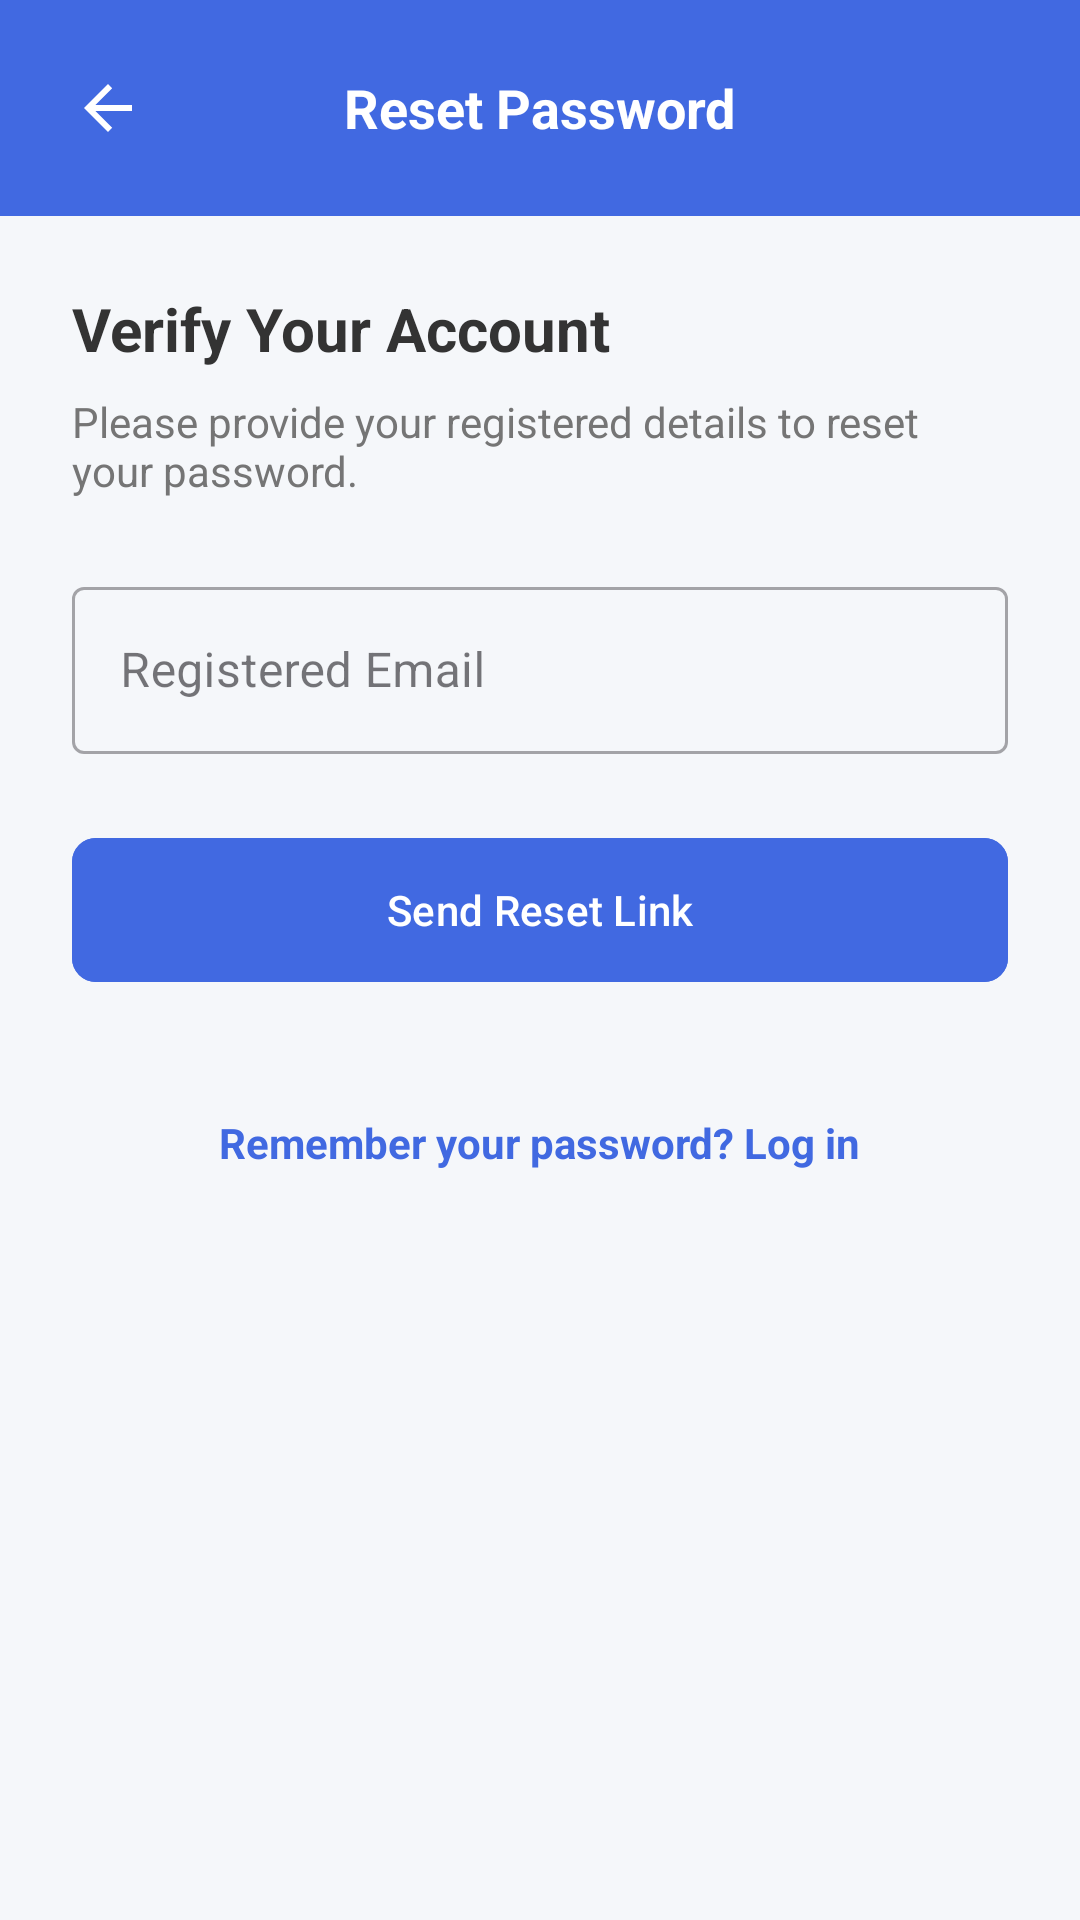

Named icons in this screenshot (1080*1920) and their centers, point (x, y):
ab back: point (108, 108)
